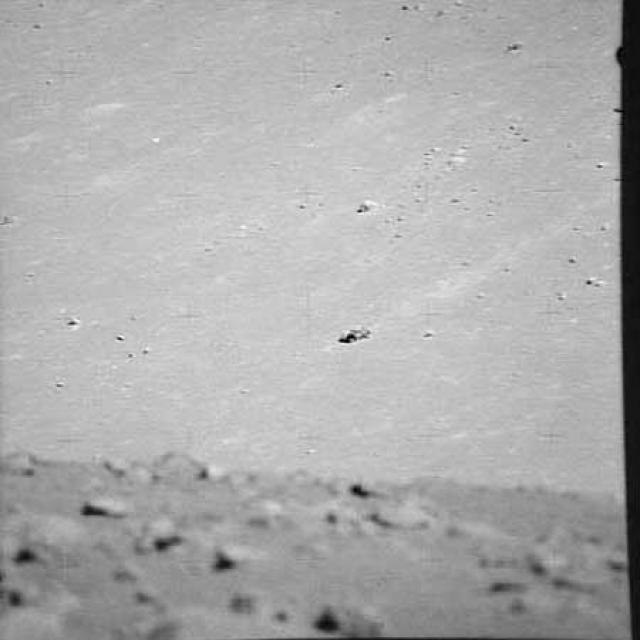rock: (129, 598, 310, 638), (0, 508, 89, 568), (306, 588, 394, 638), (137, 513, 210, 559), (370, 500, 436, 540), (76, 490, 136, 524), (210, 537, 260, 572), (329, 318, 373, 347), (351, 190, 381, 218)
